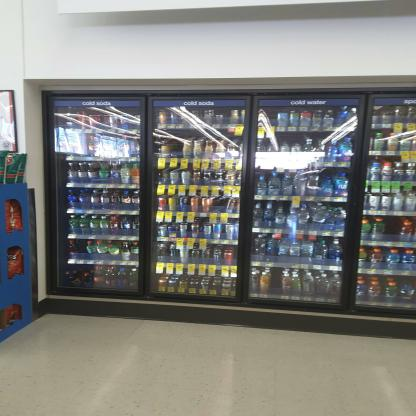Void: (270, 272, 278, 296), (388, 220, 396, 240), (78, 240, 86, 257)
